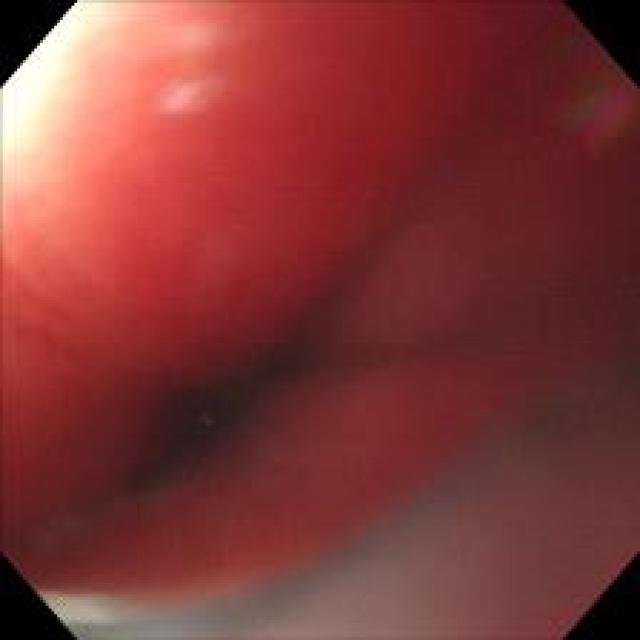blur: (14, 21, 601, 585), (62, 452, 639, 629)
color misalignment: (35, 586, 479, 631), (566, 60, 631, 150), (191, 402, 218, 429)
contrast: (125, 280, 379, 509)
saturation: (2, 10, 120, 158)
